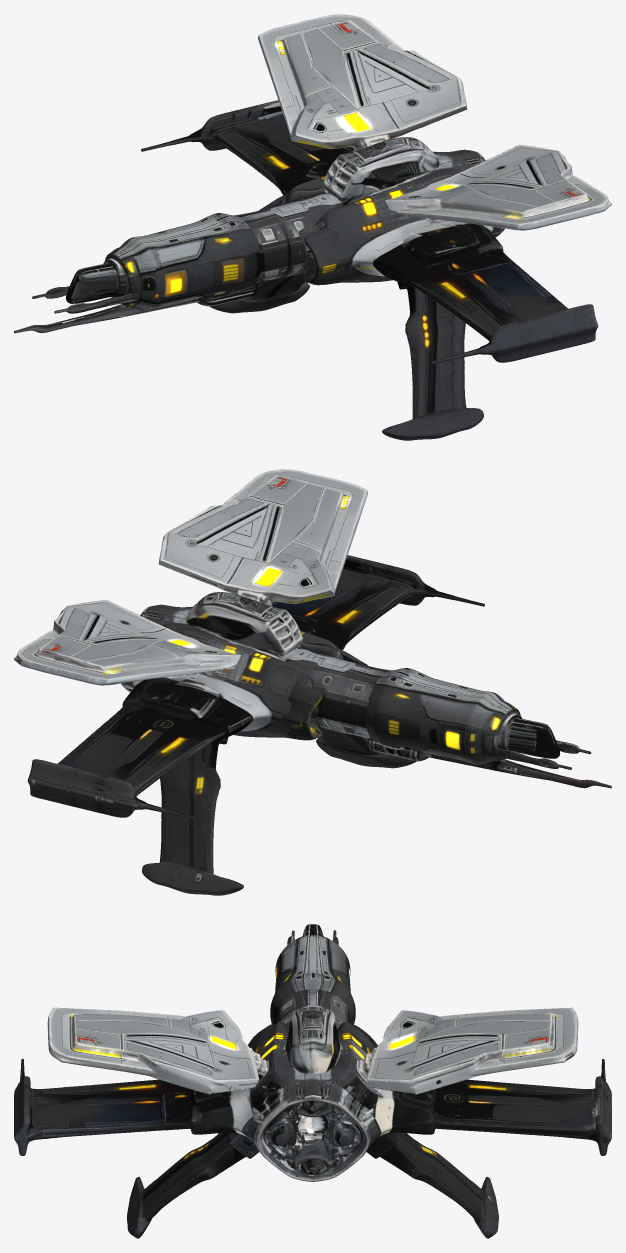
Rendered from AlienEnemyFighter_lod2.glb.
3 renders of one model, top to bottom at view 1: azimuth 30°, elevation 25°; view 2: azimuth 150°, elevation 25°; view 3: azimuth 270°, elevation 25°, orthographic.
Size of the model in its own units: 1.83 by 0.8369 by 1.9.
1 material, 1 textured.
